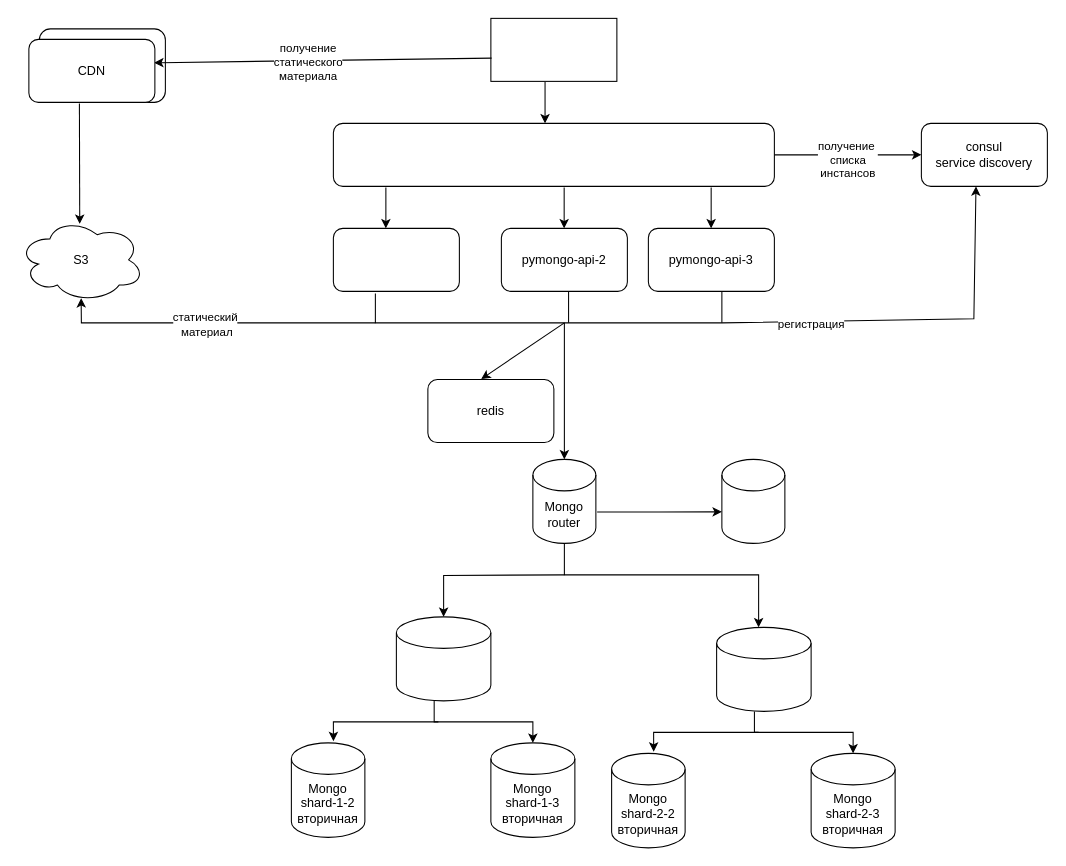
Some shapes in this 1066 by 866 pixel diagram are drawn without their labels. Here are the shapes that lost their labels. From the top down, the box of each, then its label:
(490, 17, 617, 81): web сlient
(332, 122, 774, 186): api gateway
(332, 227, 459, 291): pymongo-api-1
(721, 458, 785, 543): Mongo configSrv
(395, 616, 491, 701): Mongo shard-1-1 первичная
(716, 626, 811, 711): Mongo shard-2-1 первичная
